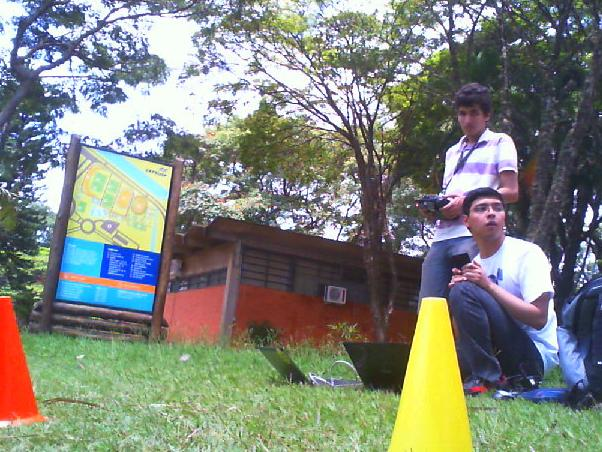0 cone: (366, 297, 498, 452), (0, 297, 47, 431)
